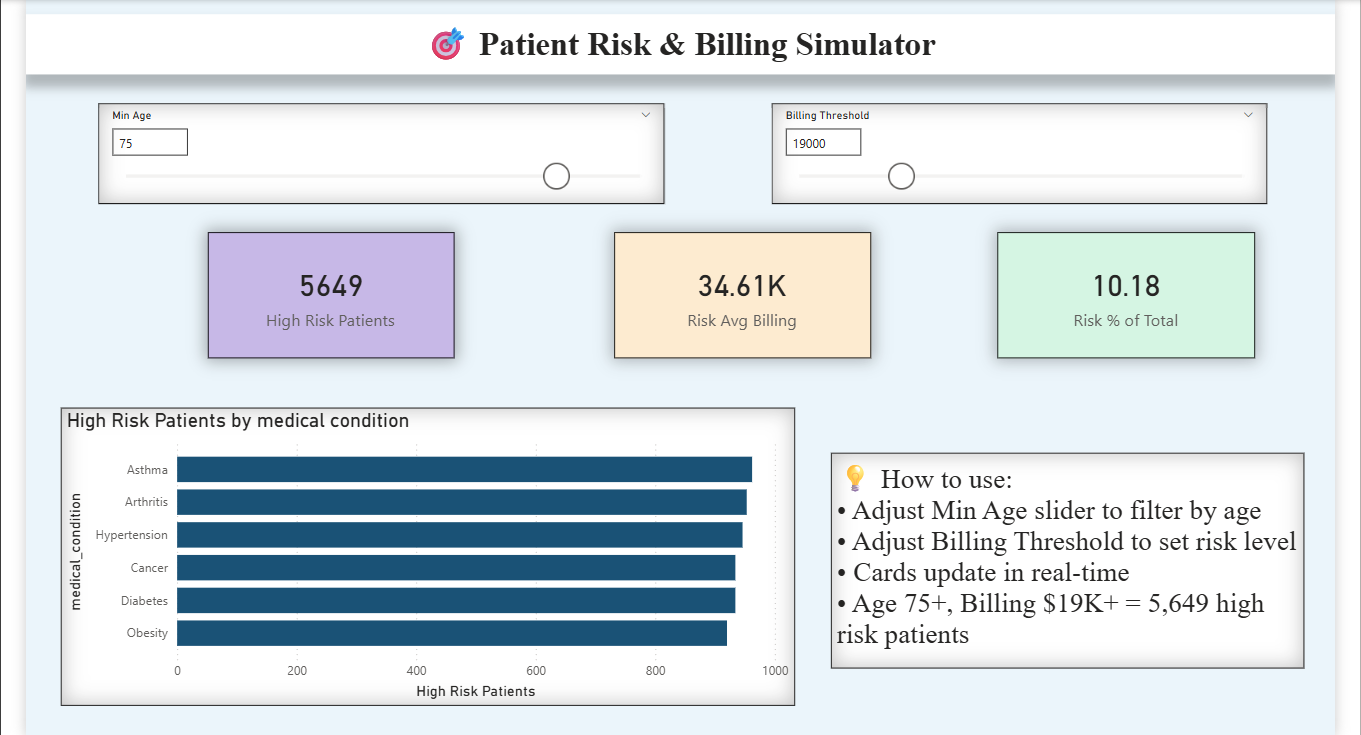

Layout of this report page (visuals, bound fields, positions):
{"tool":"powerbi","page":{"name":"Patient Risk Simulator","canvas":[1280,720],"ordinal":3},"visuals":[{"type":"slicer","fields":{"Values":["Billing Threshold.Billing Threshold"]},"box":[728.9,100.9,484.3,98.4],"z":1},{"type":"slicer","fields":{"Values":["Min Age.Min Age"]},"box":[70.6,100.9,553.6,98.4],"z":2},{"type":"card","fields":{"Values":["Billing Threshold.High Risk Patients"]},"box":[177.8,227,240.9,123.6],"z":3},{"type":"card","fields":{"Values":["Billing Threshold.Risk Avg Billing"]},"box":[575.1,227,251,123.6],"z":4},{"type":"card","fields":{"Values":["Billing Threshold.Risk % of Total"]},"box":[949.6,227,252.2,123.6],"z":5},{"type":"clusteredBarChart","title":"High Risk Patients by medical condition","fields":{"Category":["public patients.medical_condition"],"Y":["Billing Threshold.High Risk Patients"]},"box":[34.1,398.5,717.6,291.3],"z":6},{"type":"textbox","box":[0,13.9,1280,59.3],"z":7},{"type":"textbox","box":[786.9,442.7,462.8,210.6],"z":8}]}

Visuals, with their boxes on the page's 1280x720 design canvas (x1, y1, x2, y2). These are canvas units, not pixel positions in the 1361x735 screenshot, which may show the page scaled, cropped or inside an application window:
slicer - Billing Threshold.Billing Threshold: BBox(729, 101, 1213, 199)
slicer - Min Age.Min Age: BBox(71, 101, 624, 199)
card - Billing Threshold.High Risk Patients: BBox(178, 227, 419, 351)
card - Billing Threshold.Risk Avg Billing: BBox(575, 227, 826, 351)
card - Billing Threshold.Risk % of Total: BBox(950, 227, 1202, 351)
"High Risk Patients by medical condition" clusteredBarChart: BBox(34, 398, 752, 690)
textbox: BBox(0, 14, 1280, 73)
textbox: BBox(787, 443, 1250, 653)
